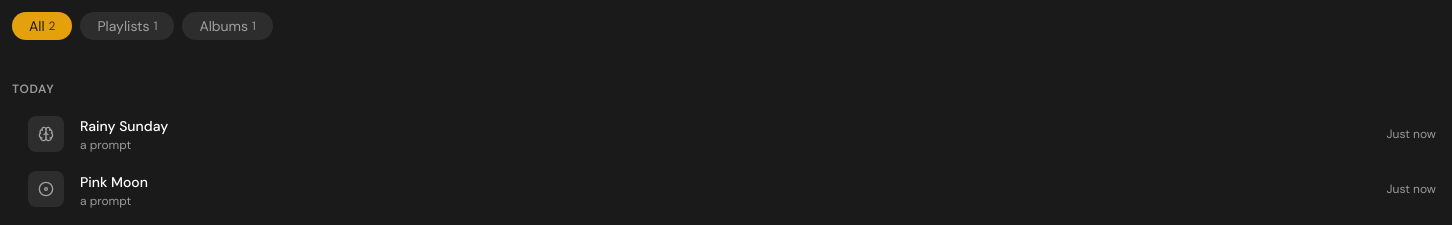
HistoryFeed › filtering › shows only what the chosen chip admits
Click the button "Albums 1" at (228, 26), box [182,12,273,40]
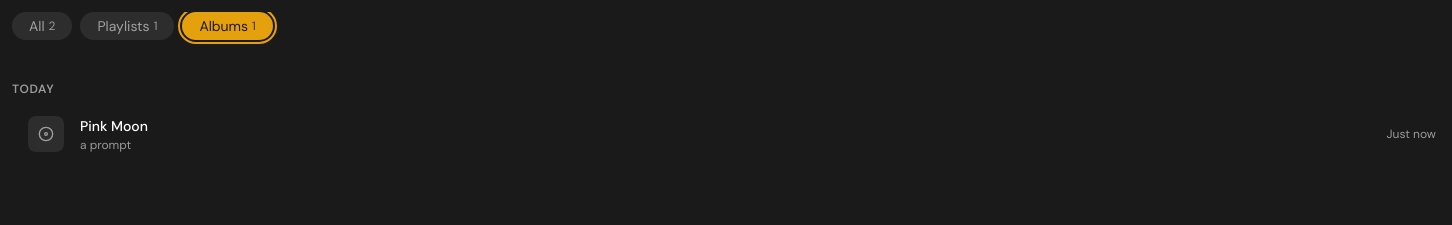
Expected: the link "Pink Moon" is shown, [80,117,148,135]
Expected: the link "Rainy Sunday" is gone
